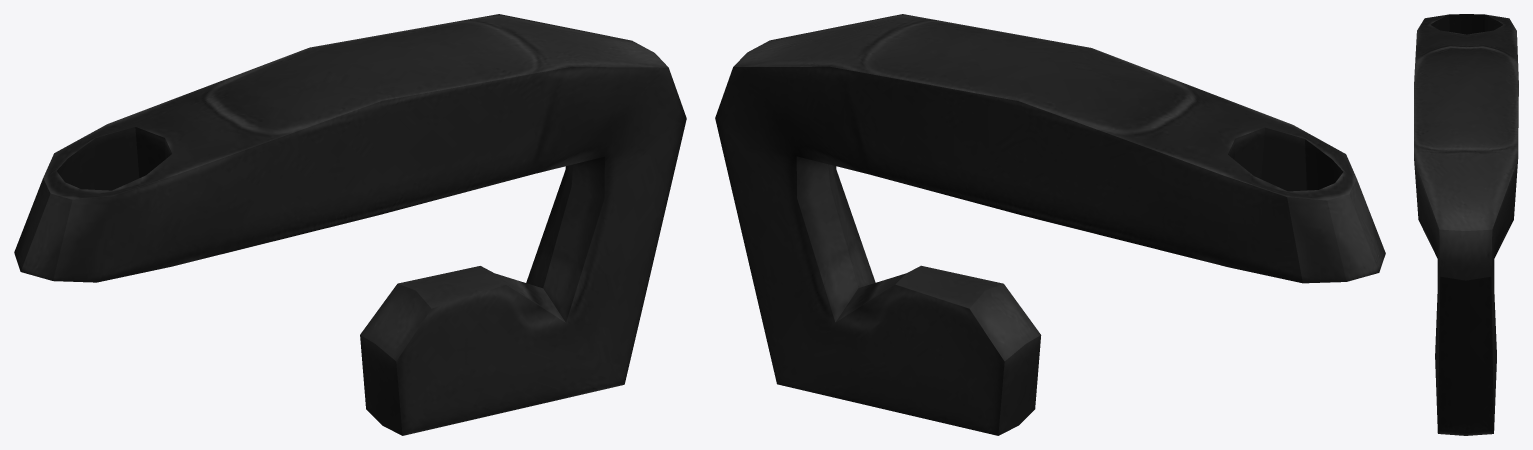
File: Braco_Novo.obj
The picture shows the model from 3 angles, left to right: view 1: azimuth 30°, elevation 25°; view 2: azimuth 150°, elevation 25°; view 3: azimuth 270°, elevation 25°; orthographic projection. The views are drawn at different scales.
Parts seen in each view (by area): view 1: Cadeira_Braco; view 2: Cadeira_Braco; view 3: Cadeira_Braco.
Boxes of the visible parts, x1=… form: Cadeira_Braco: x1=14, y1=14, x2=686, y2=435; Cadeira_Braco: x1=715, y1=14, x2=1385, y2=435; Cadeira_Braco: x1=1414, y1=14, x2=1518, y2=435.
Bounding box in the file's own units: 0.2996 × 0.1642 × 0.0581.
